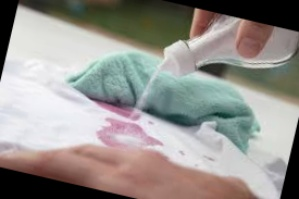wine: (97, 89, 138, 119), (103, 113, 143, 136), (99, 131, 114, 146), (148, 135, 164, 148)
